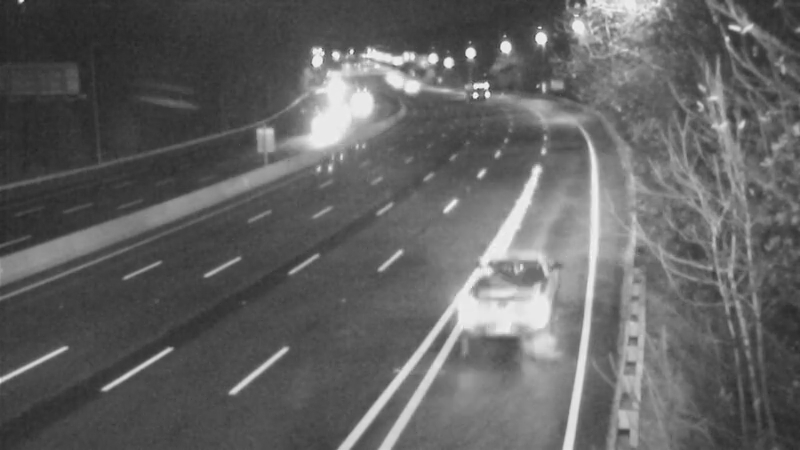vehicle: (449, 246, 559, 356), (450, 67, 500, 117), (383, 61, 433, 111), (306, 103, 356, 153), (315, 93, 365, 143)
